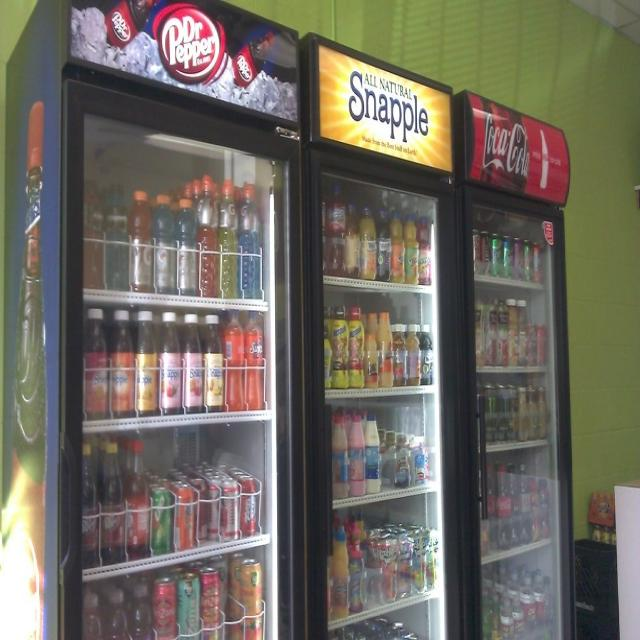Plastics: (322, 184, 448, 640), (82, 149, 271, 295), (79, 306, 279, 410), (80, 444, 158, 551), (489, 460, 564, 544)
can: (83, 550, 278, 640), (154, 470, 271, 546), (474, 375, 552, 446), (469, 222, 550, 281)
